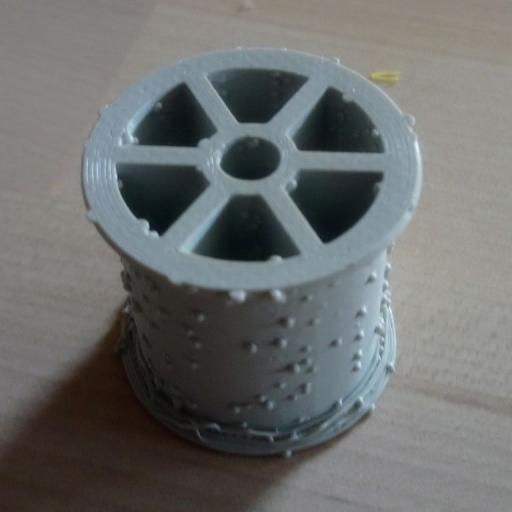blobs: (327, 252, 395, 408), (222, 344, 312, 438), (123, 287, 196, 390), (214, 284, 304, 324), (134, 210, 168, 256), (262, 242, 298, 278), (275, 174, 306, 192)
